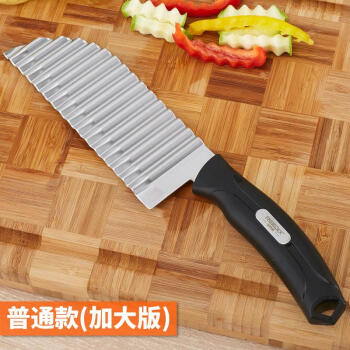knief: (12, 36, 344, 315)
